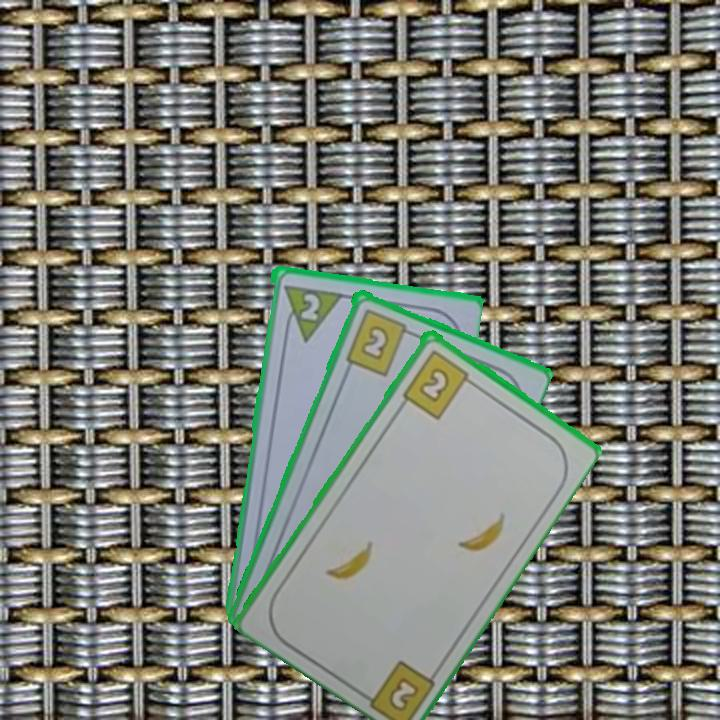2b: (399, 345, 478, 422), (341, 305, 417, 378), (384, 672, 422, 714)
2p: (278, 280, 342, 344)
